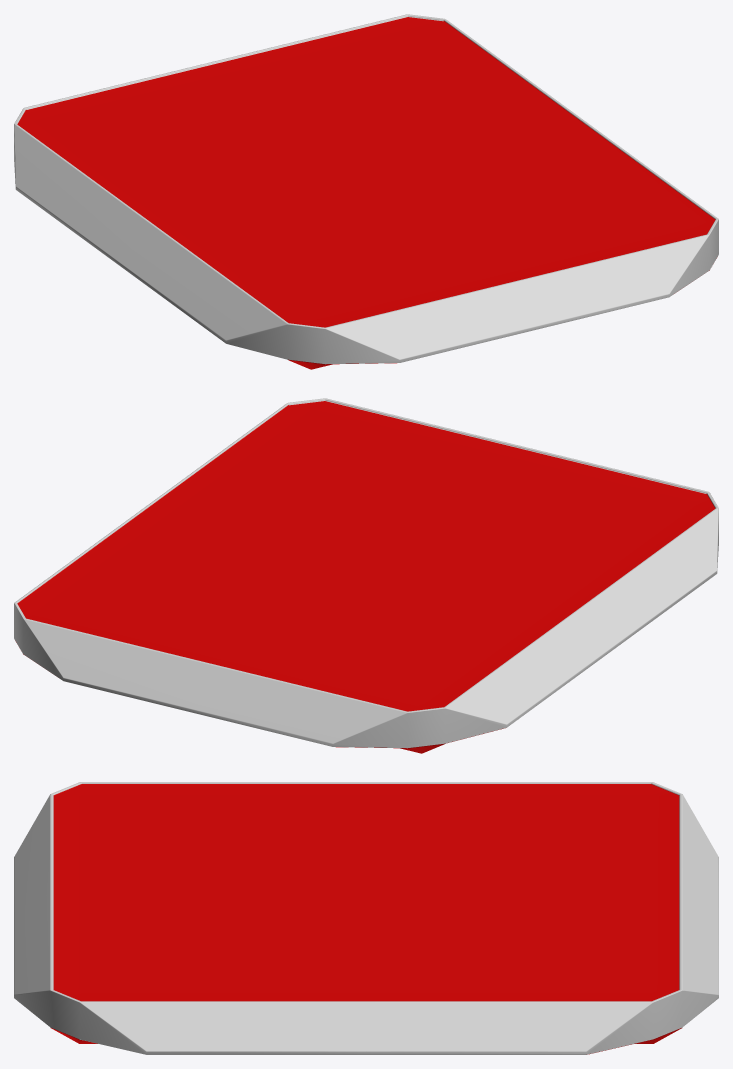
File: SM_Structure_Storage_platform.fbx
3 renders of one model, top to bottom at view 1: azimuth 30°, elevation 25°; view 2: azimuth 150°, elevation 25°; view 3: azimuth 270°, elevation 25°, orthographic. The views are drawn at different scales.
Parts seen in each view (by area): view 1: SM_PlatformBase; view 2: SM_PlatformBase; view 3: SM_PlatformBase.
Part boxes in pixels (x1,y1,x2,y2): SM_PlatformBase: (14,14,718,369); SM_PlatformBase: (14,398,718,753); SM_PlatformBase: (14,782,718,1054).
Size of the model in its own units: 3058 by 3628 by 306.
